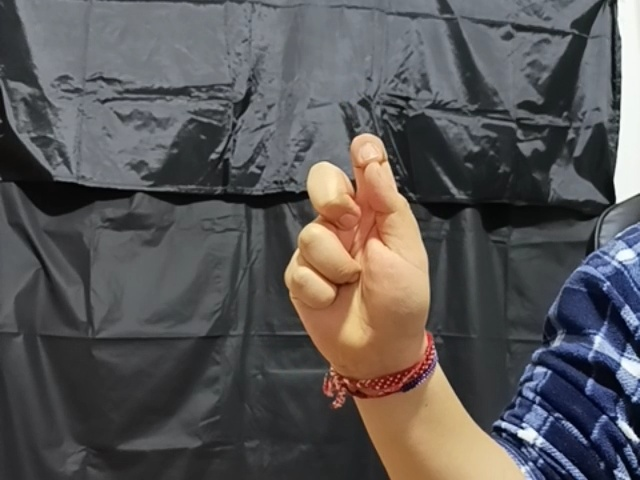T: (276, 130, 434, 352)
